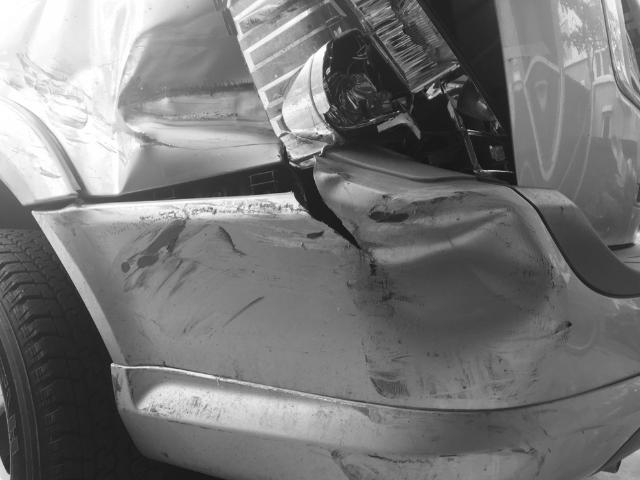Bumper: (29, 150, 618, 480)
Fender: (0, 0, 282, 202)
Light: (223, 2, 516, 178)
